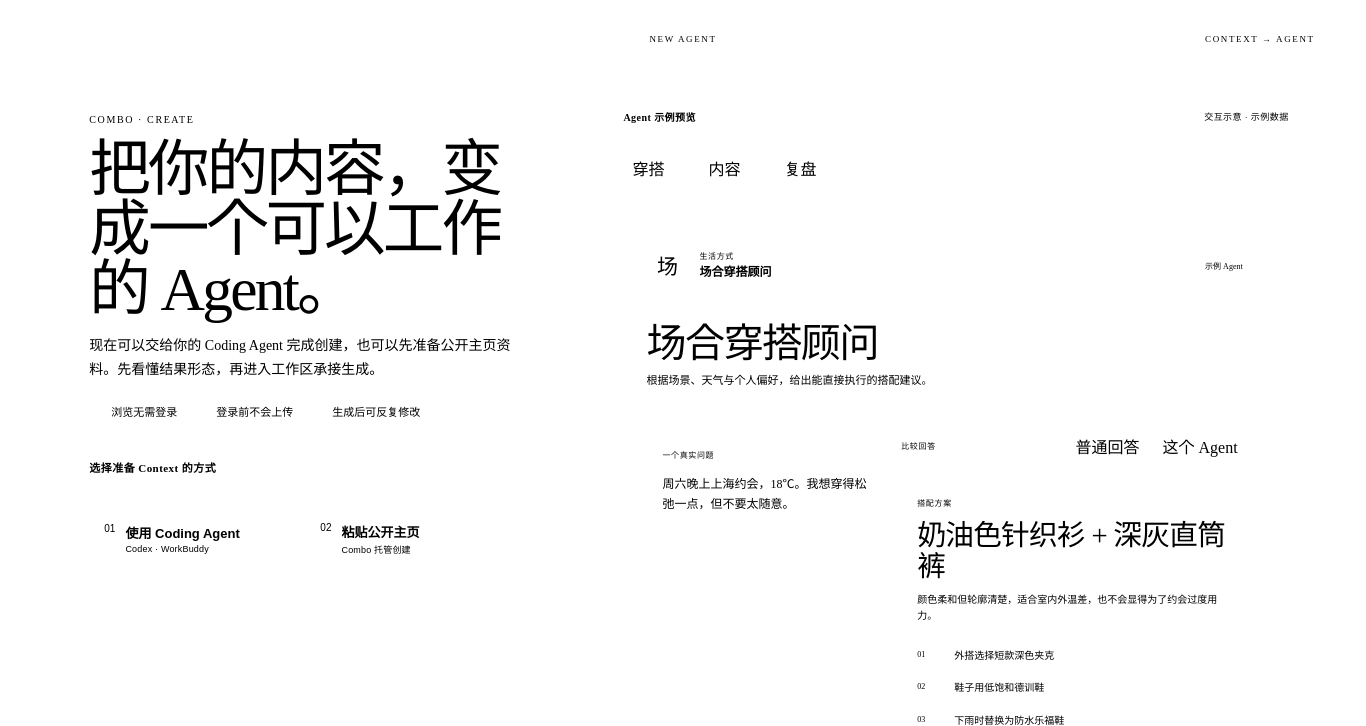
Test: LandingPage › Combo 资料仅写入 sessionStorage，并明确托管创建尚未开放
Click the button "02 粘贴公开主页 Combo 托管创建": [409, 539] box x1=305 y1=487 x2=512 y2=591
(page scrolled)
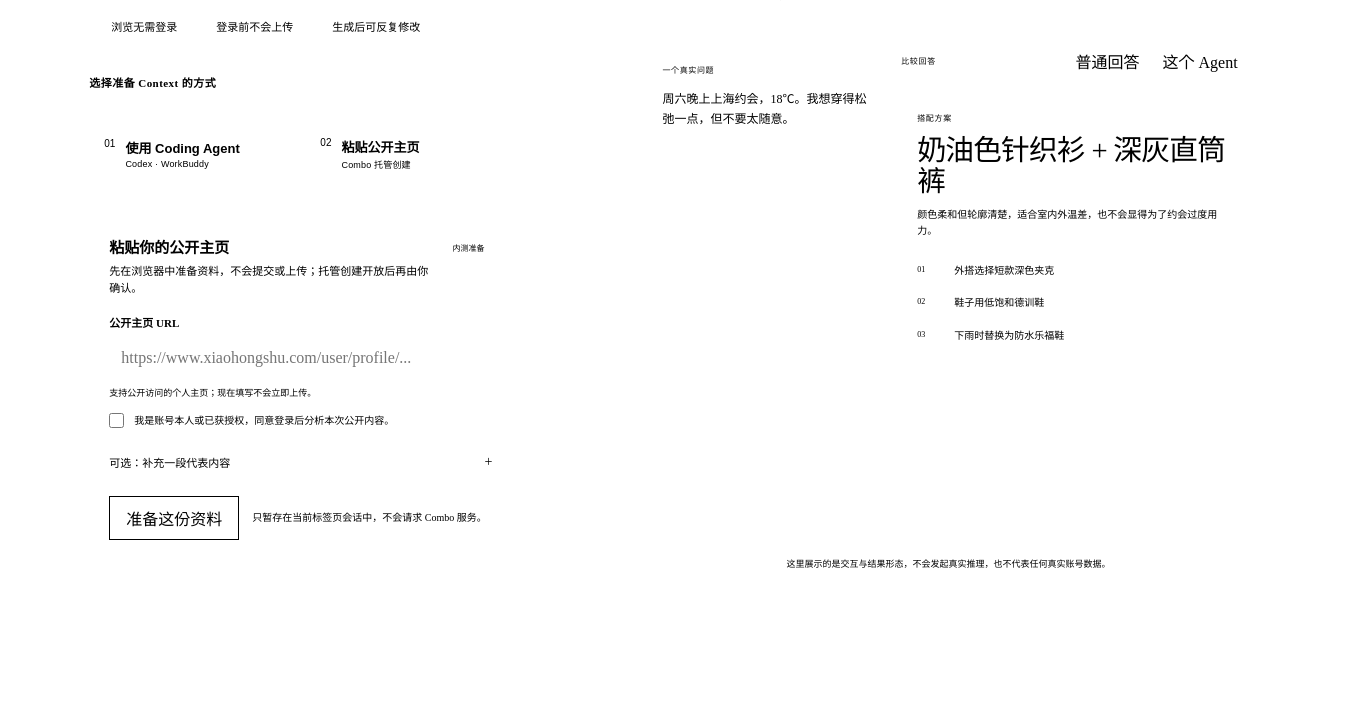
In the field labelled "公开主页 URL": [301, 358] box x1=109 y1=336 x2=492 y2=380, type "https://example.com/creator#works"
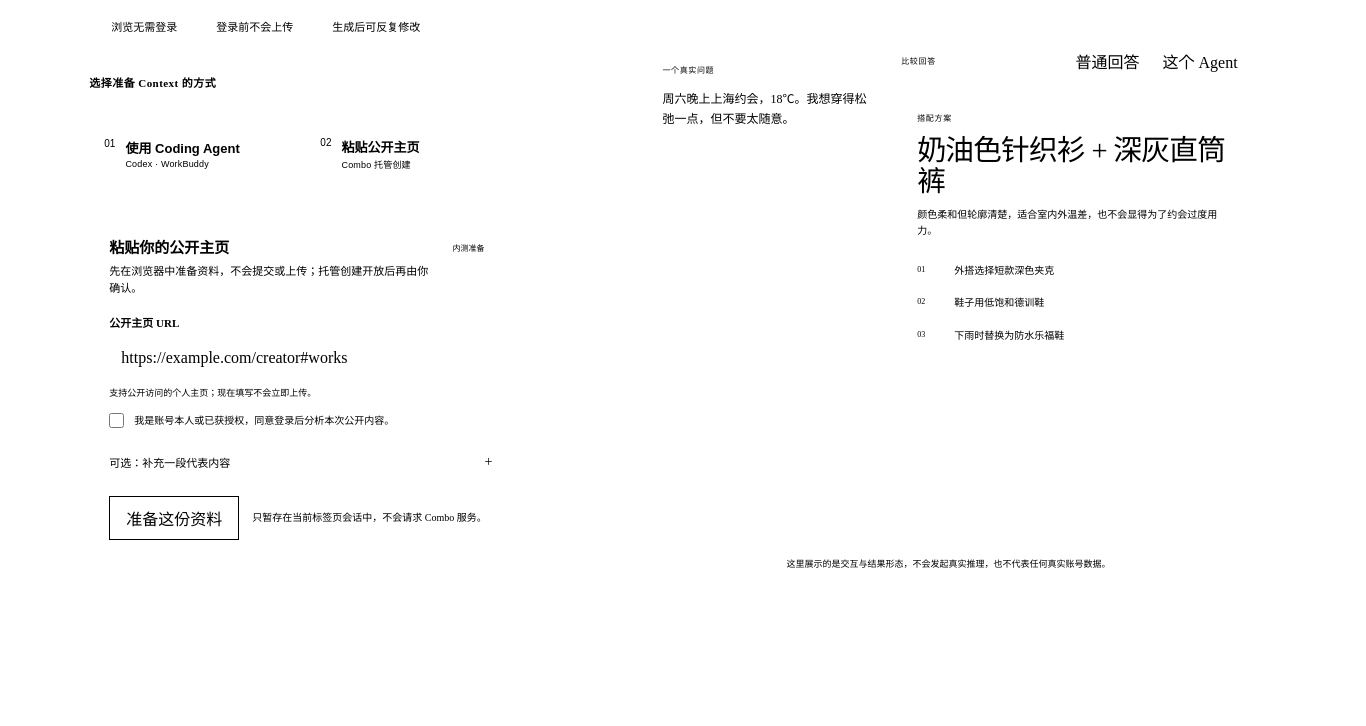
Click the checkbox labelled "我是账号本人或已获授权，同意登录后分析本次公开内容。": [117, 420] box x1=109 y1=413 x2=124 y2=428
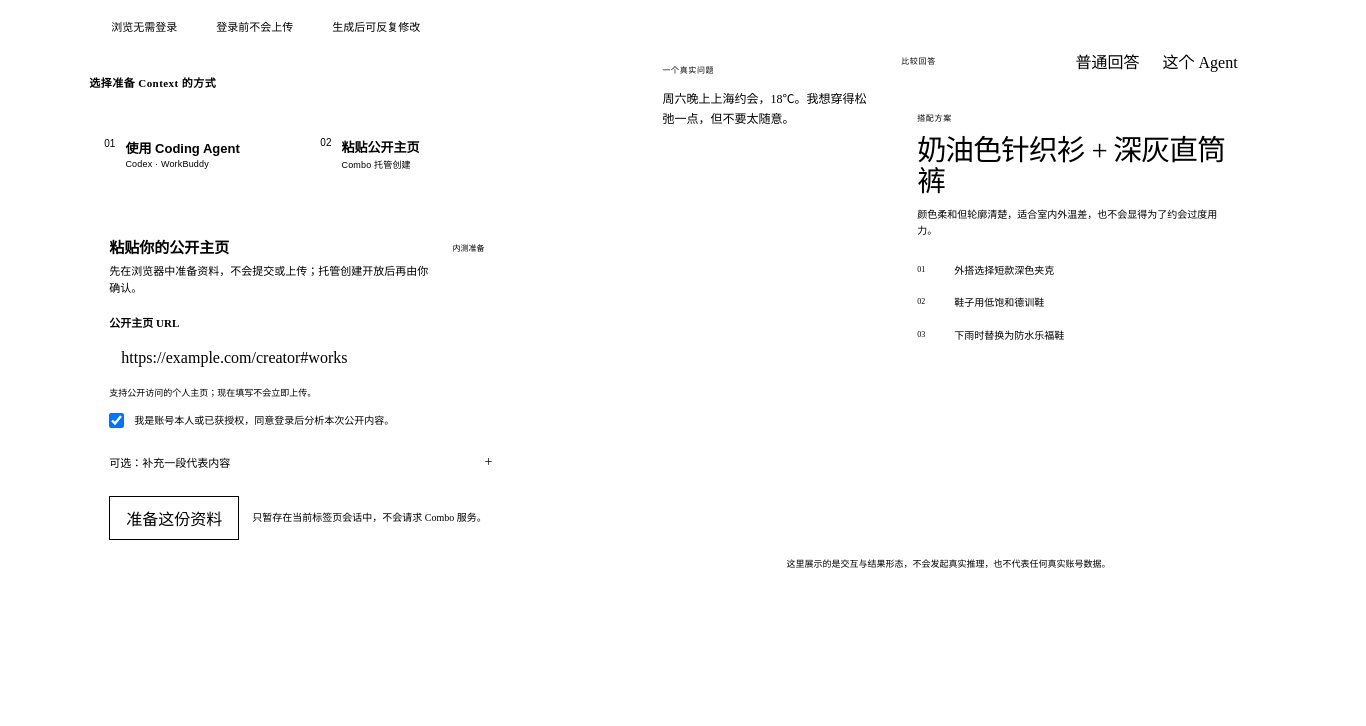
Click the button "准备这份资料": [174, 518] box x1=109 y1=496 x2=239 y2=540
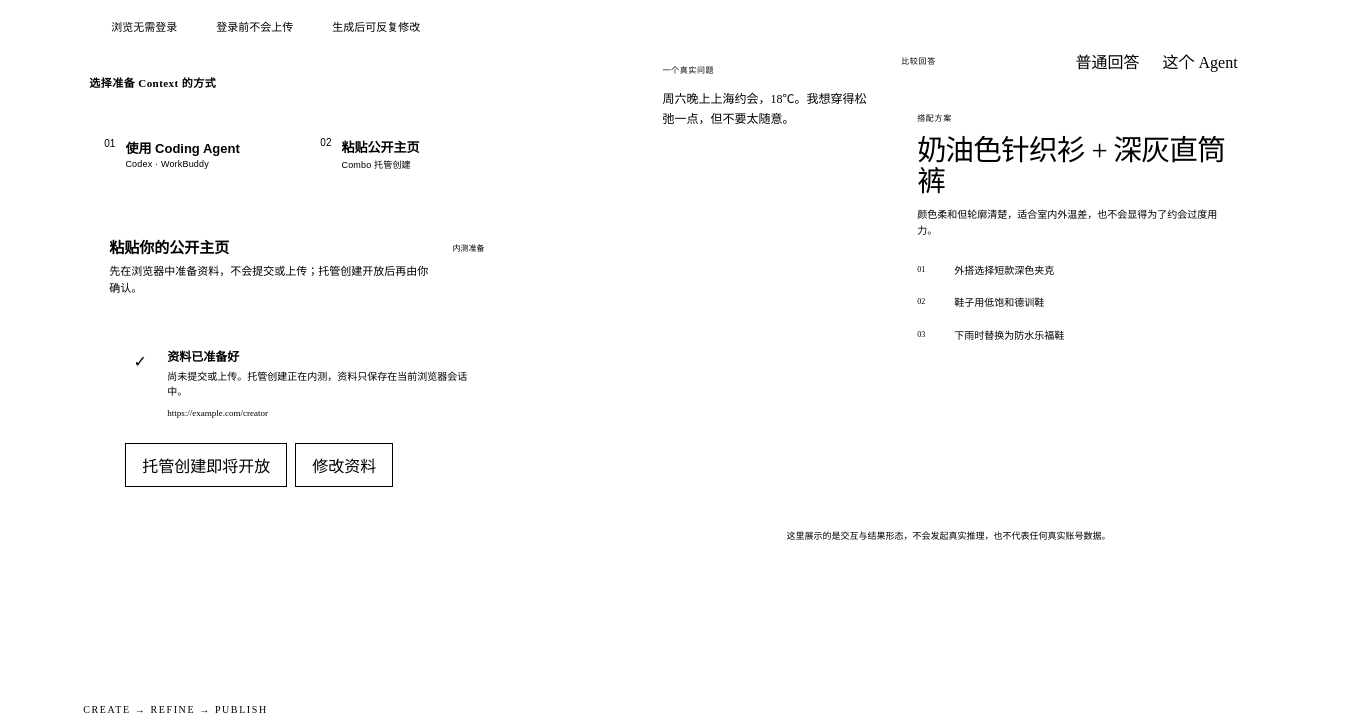
Check: the text "资料已准备好" is shown, box x1=167 y1=350 x2=239 y2=364
Check: the text "尚未提交或上传。托管创建正在内测，资料只保存在当前浏览器会话中。" is shown, box x1=167 y1=369 x2=476 y2=400
Check: the button "托管创建即将开放" is disabled, box x1=125 y1=443 x2=287 y2=487
